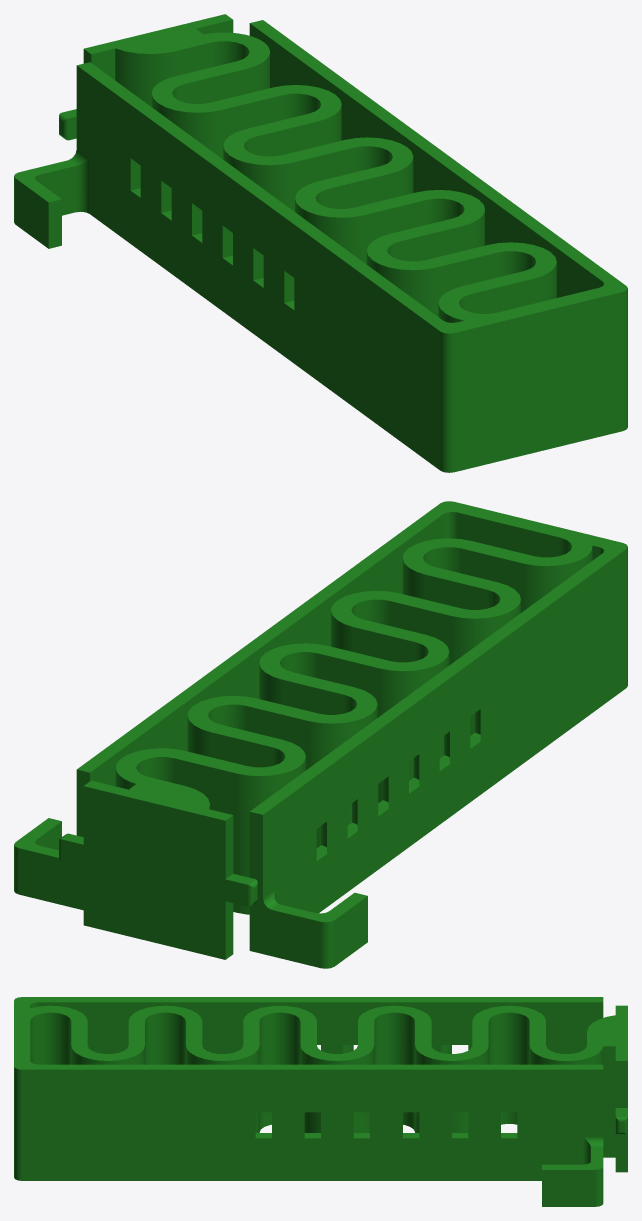
The model's file is Resorte_Mateo.obj.
The picture shows the model from 3 angles, top to bottom: view 1: azimuth 30°, elevation 25°; view 2: azimuth 150°, elevation 25°; view 3: azimuth 270°, elevation 25°; orthographic projection. The views are drawn at different scales.
Visible parts, largest first — view 1: Sólido1; view 2: Sólido1; view 3: Sólido1.
Boxes of the visible parts, x1=… form: Sólido1: x1=14, y1=14, x2=627, y2=472; Sólido1: x1=14, y1=501, x2=627, y2=968; Sólido1: x1=14, y1=997, x2=627, y2=1206.
Size of the model in its own units: 72 by 30 by 150.
